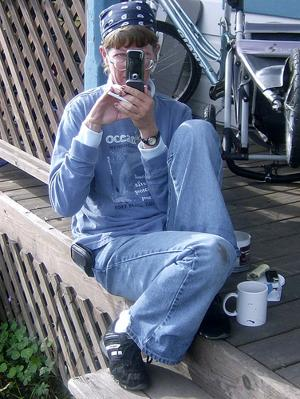person: (48, 5, 239, 387)
